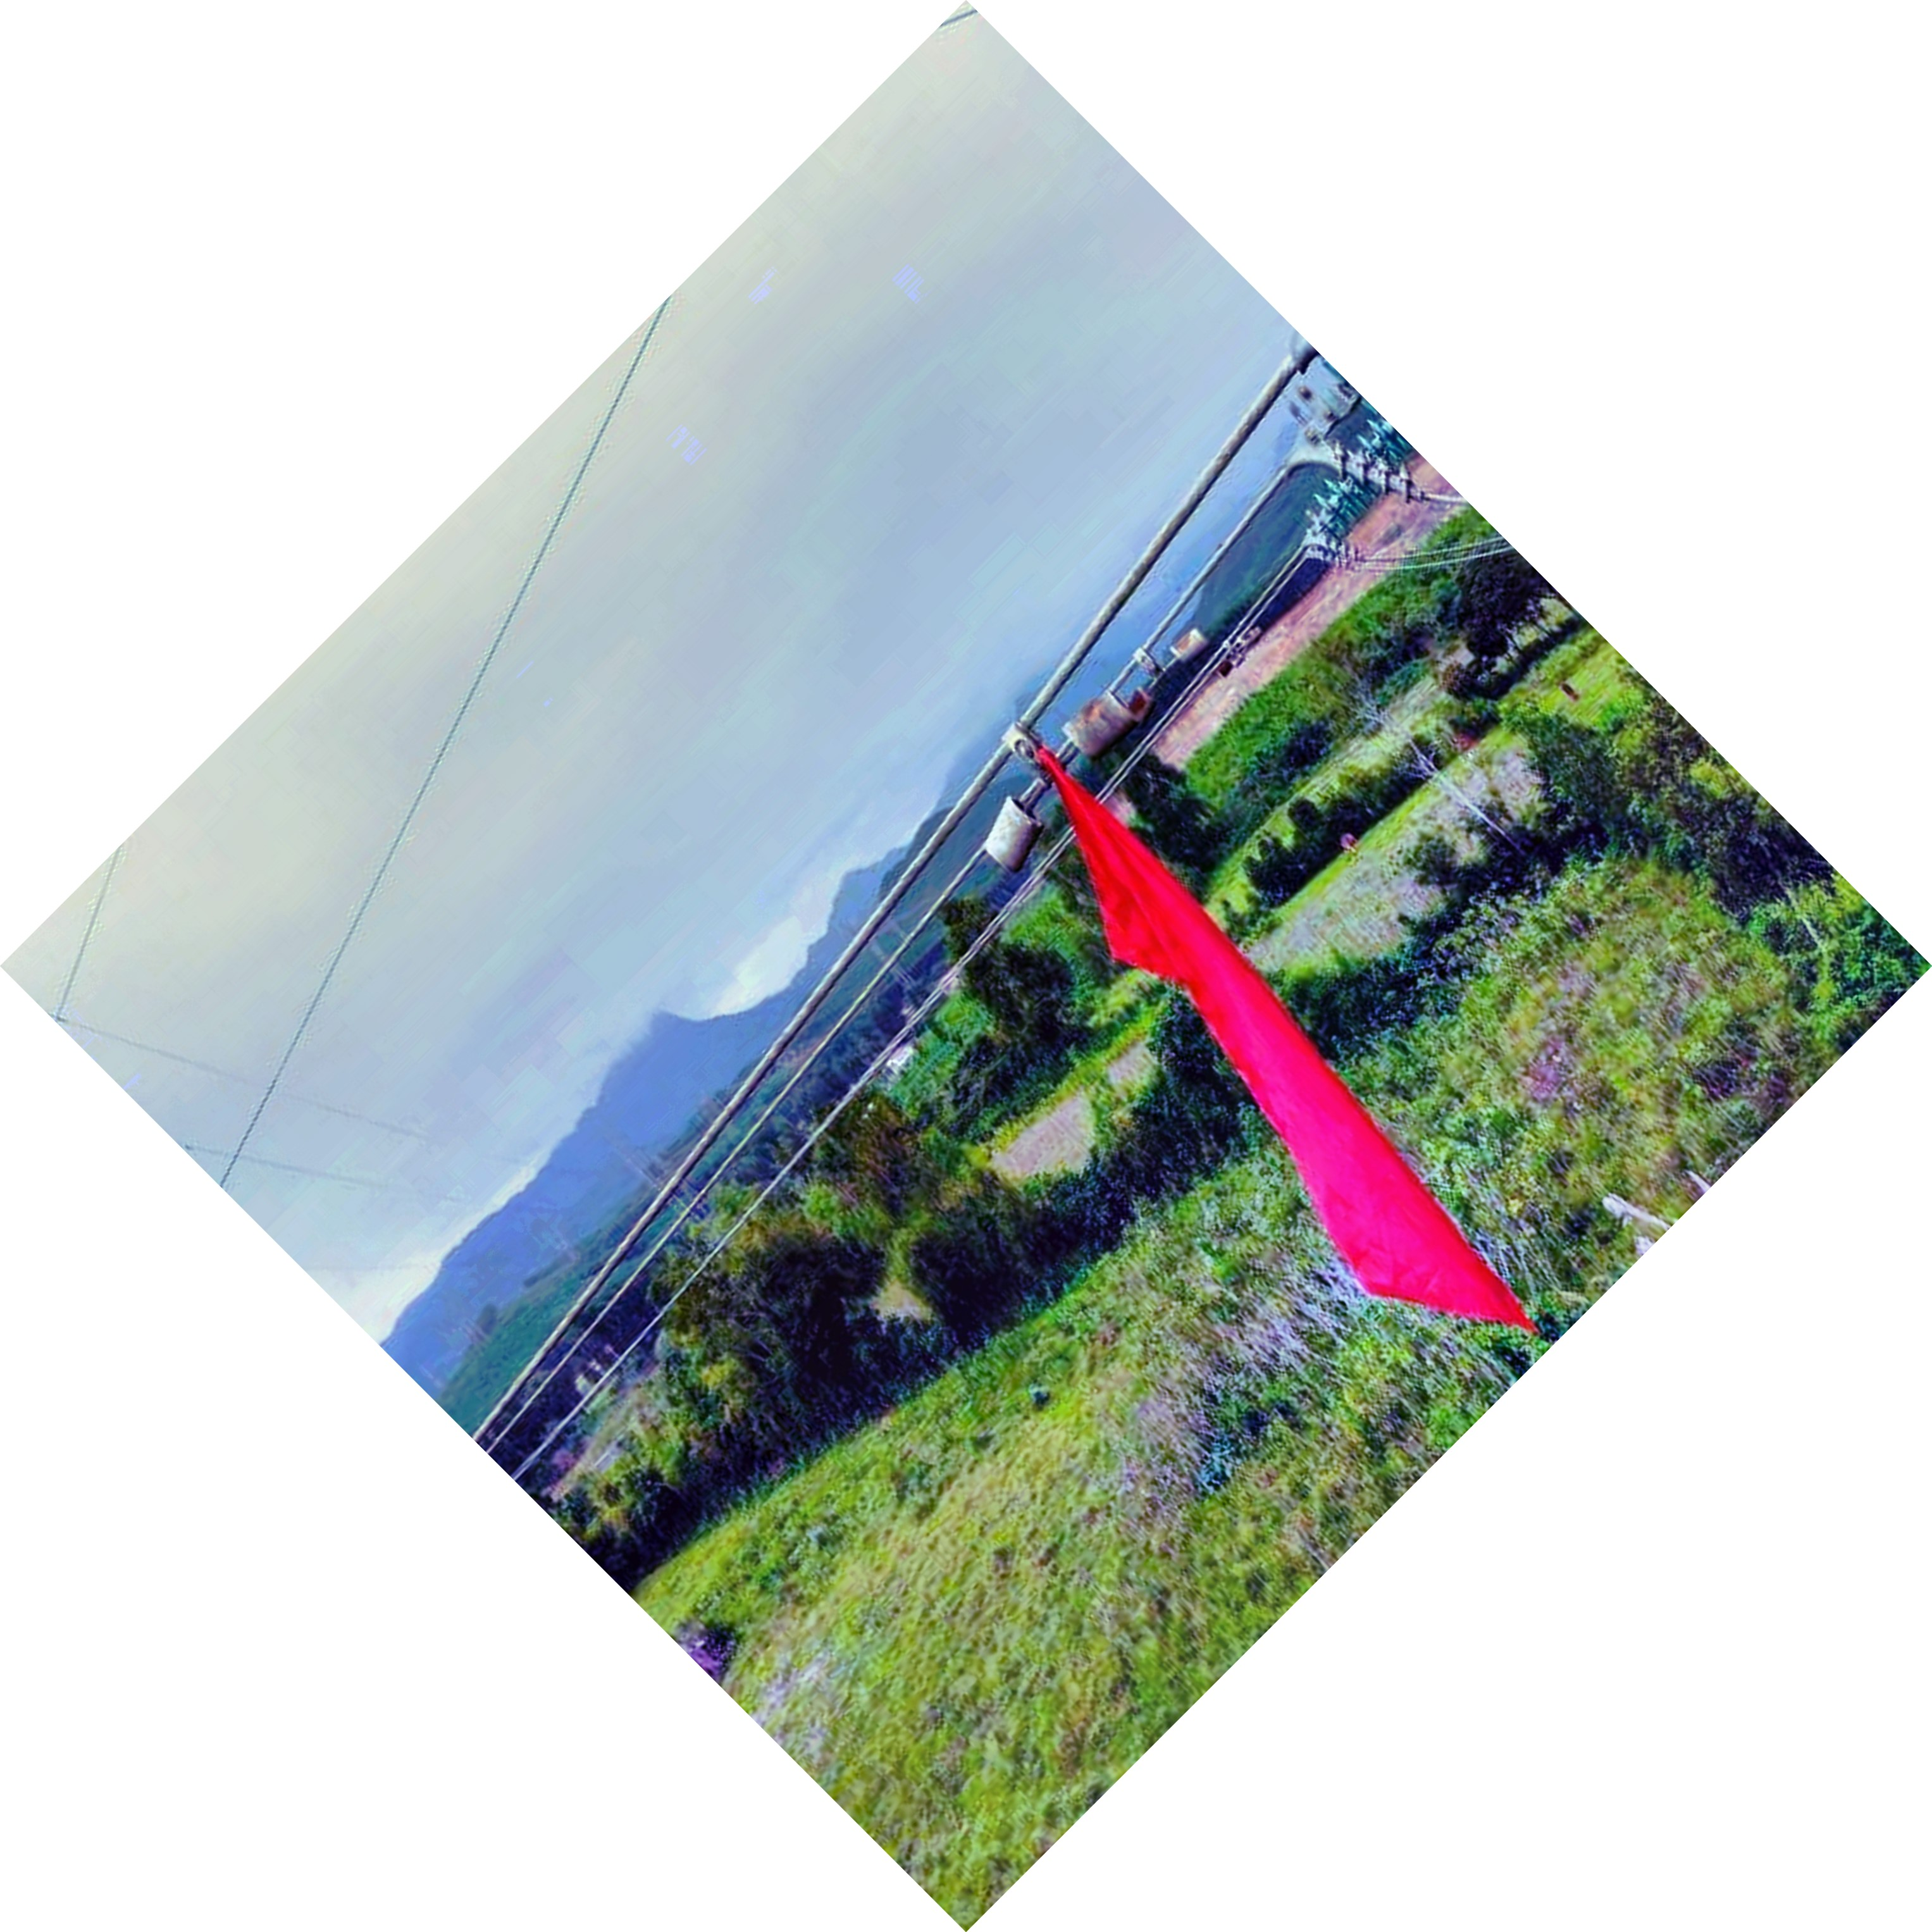wire foreign body: (947, 704, 1491, 1341)
